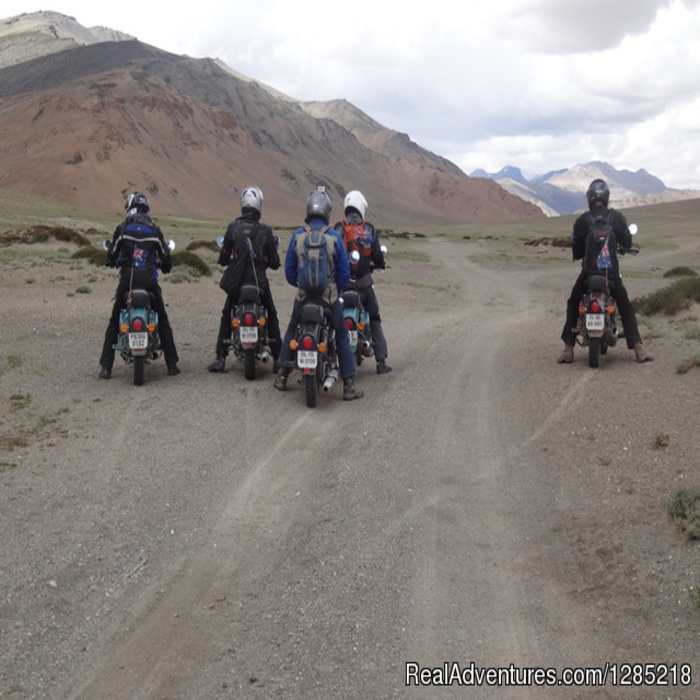h: (303, 186, 334, 223), (341, 188, 369, 221), (238, 185, 265, 219), (586, 177, 611, 213), (124, 191, 149, 219)
n: (296, 348, 318, 370), (127, 330, 150, 351), (238, 325, 260, 345), (584, 311, 606, 331)
